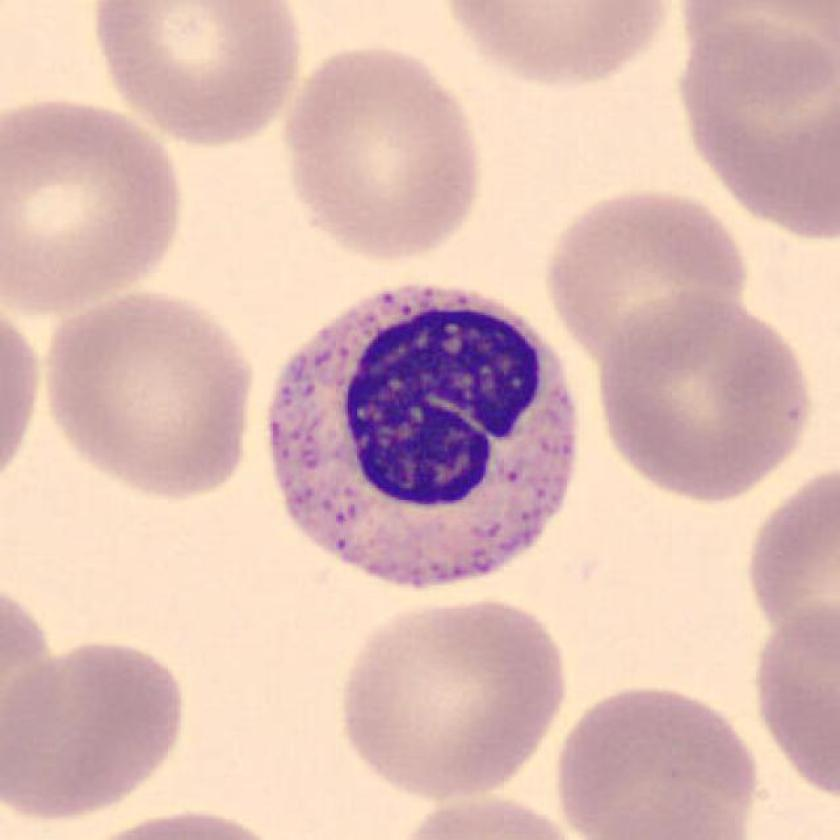neutrophil: (273, 289, 575, 587)
